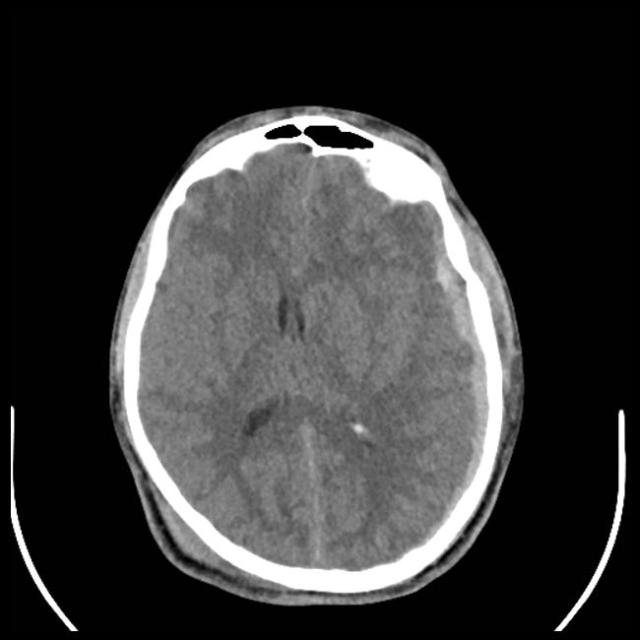lesion: (105, 105, 526, 604)
